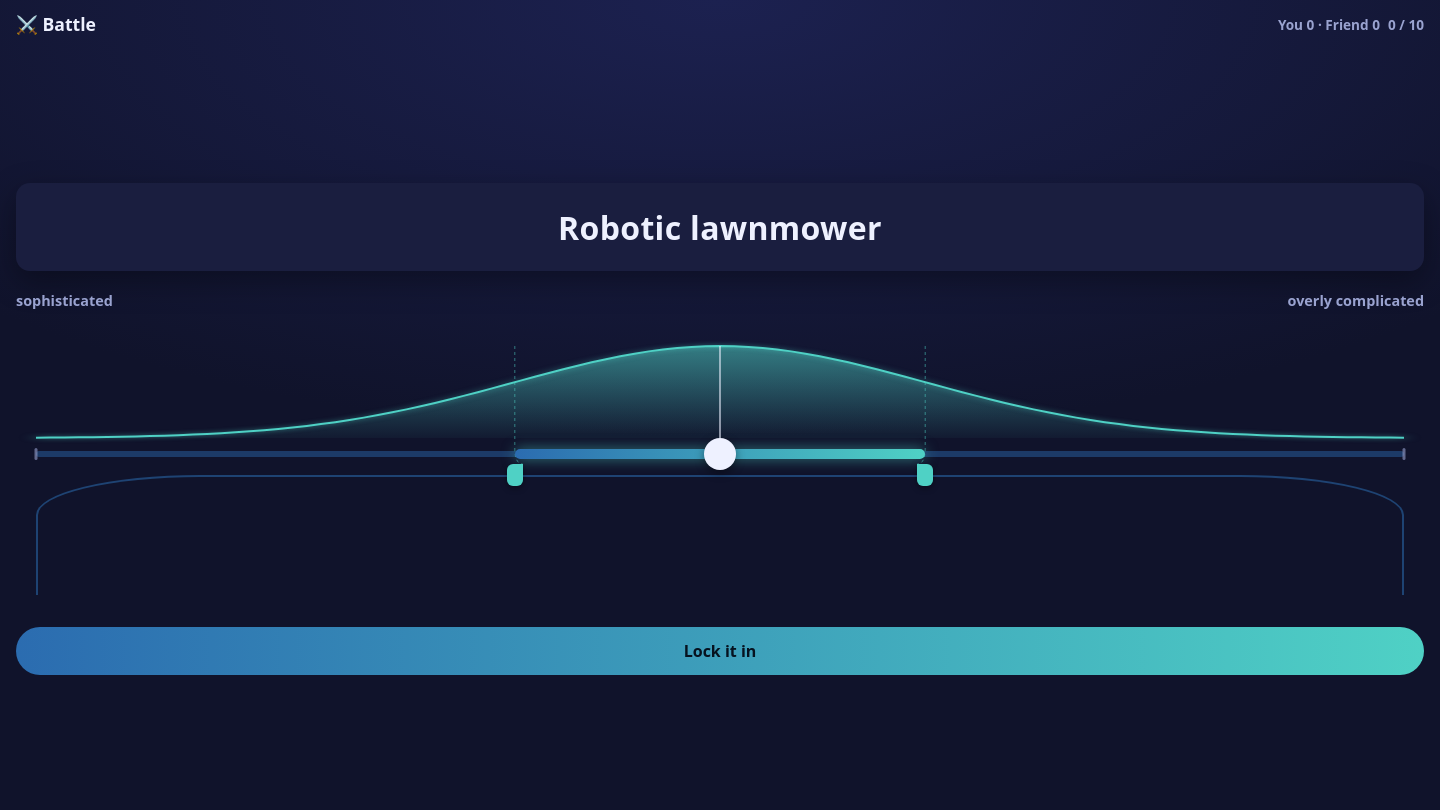
it: PvpScreen › badges a round that actually scored double
Expected: the heading "Robotic lawnmower" is shown, [558,206,882,249]
Click the button "Lock it in" at (720, 651), box [16,627,1424,675]
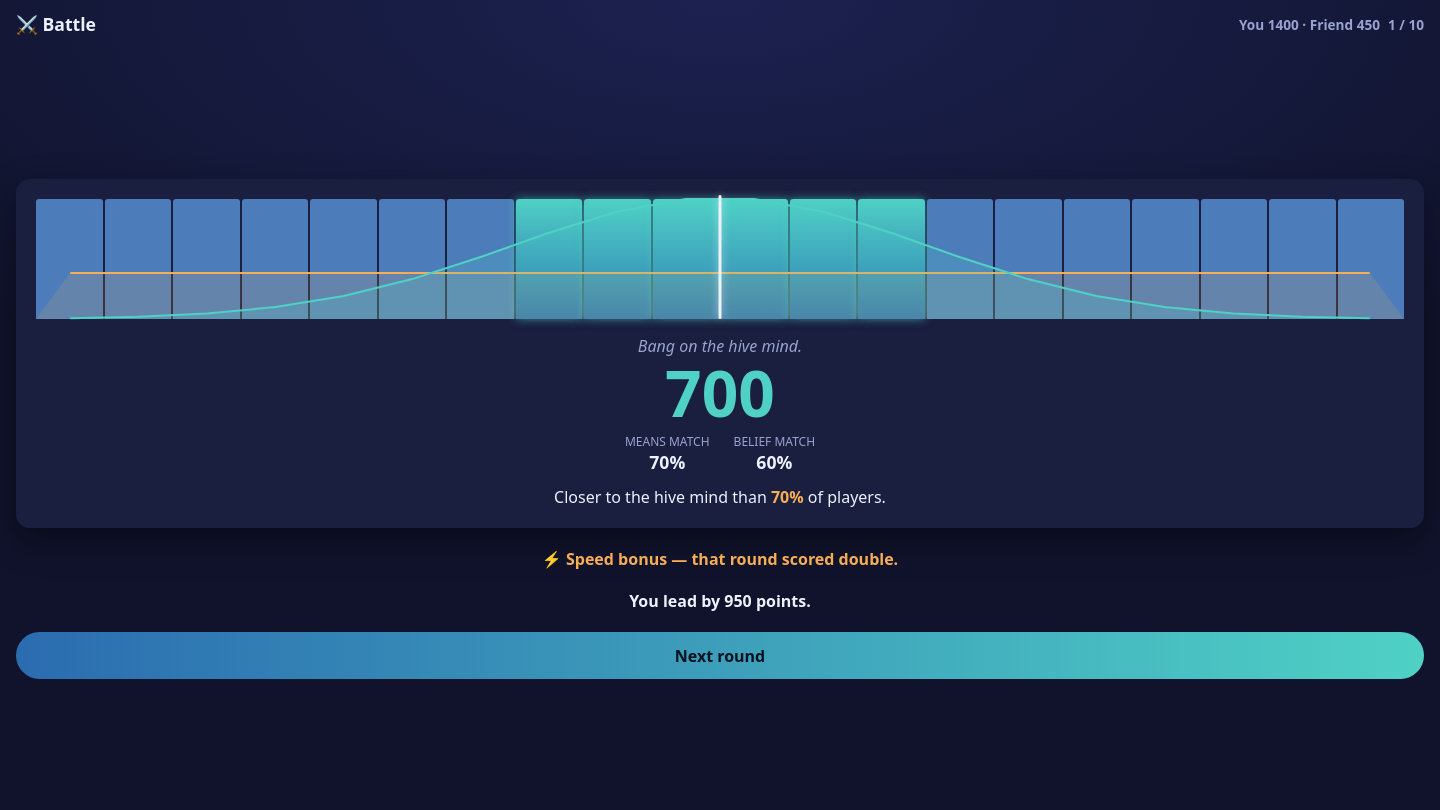
Expected: the text "⚡ Speed bonus — that round scored double." is shown, [542,548,898,570]
